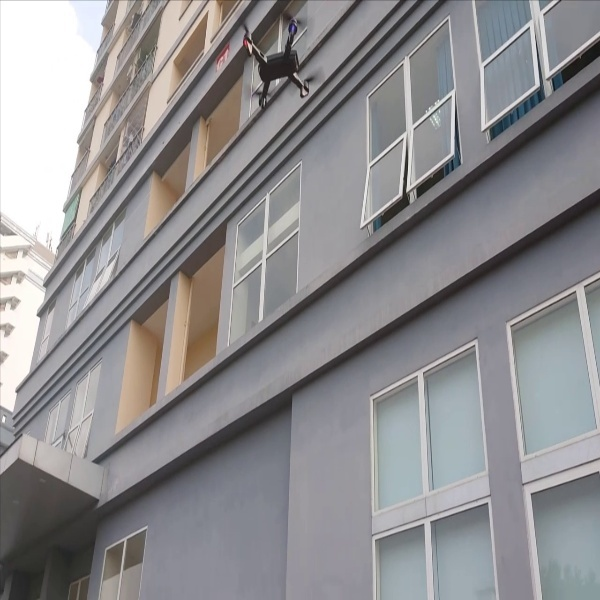drone: (221, 5, 331, 113)
